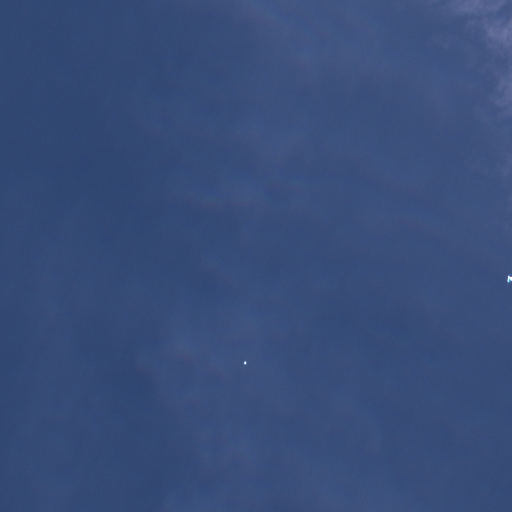Iceberg: (507, 275, 511, 282), (243, 361, 246, 364)
